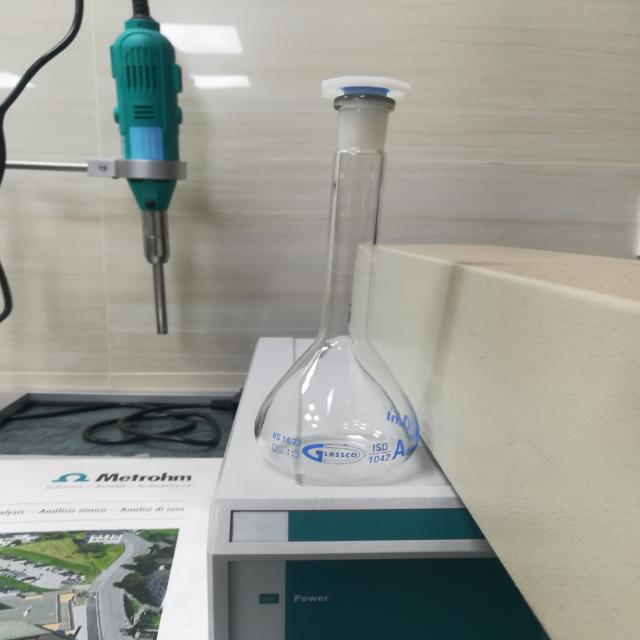Volumetric_Flask: (237, 49, 471, 506)
